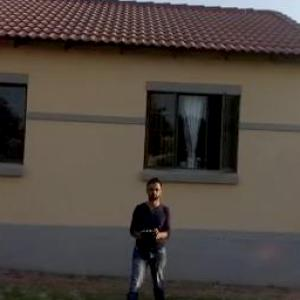follow: (120, 169, 174, 299)
